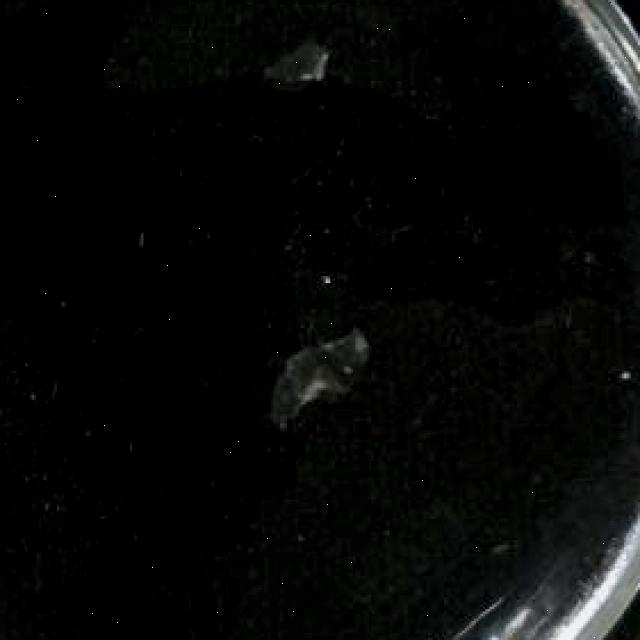Microplastic: (260, 293, 400, 433), (264, 29, 358, 95)
